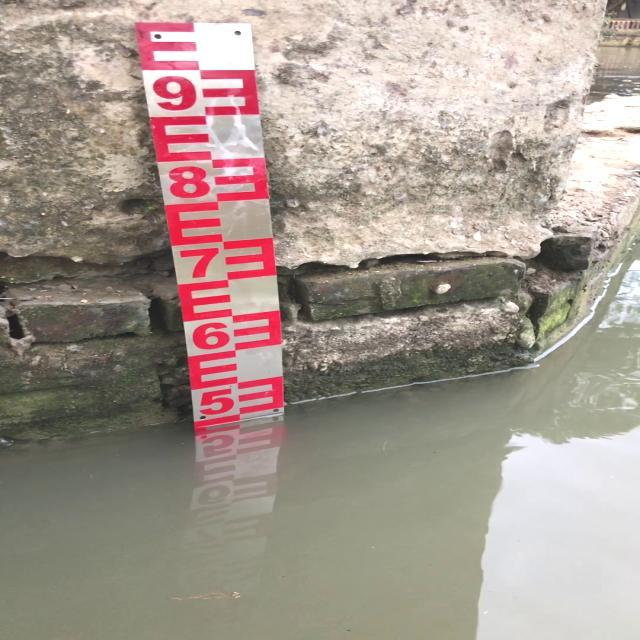ruler: (131, 0, 308, 447)
value: (143, 70, 206, 120), (157, 159, 217, 206), (172, 242, 226, 284), (185, 316, 236, 356), (193, 384, 241, 422)
